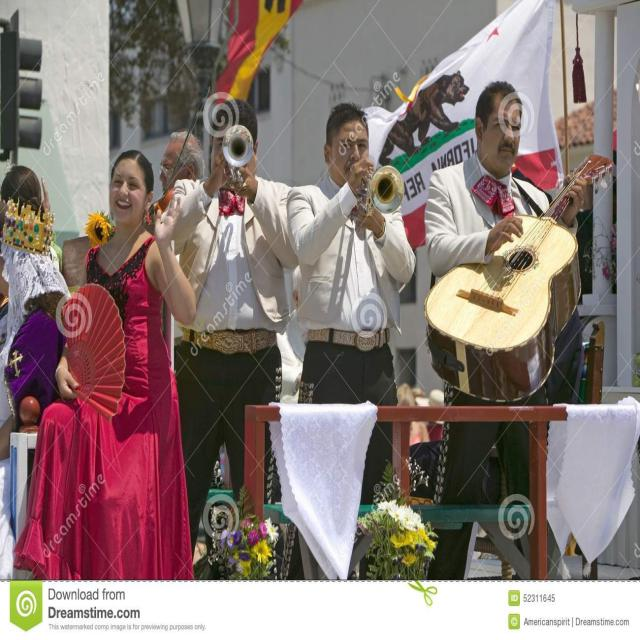body: (420, 75, 596, 639), (14, 145, 200, 582), (158, 99, 300, 562), (282, 102, 418, 582), (0, 160, 77, 571), (548, 300, 588, 406), (158, 129, 206, 197), (396, 381, 444, 449)
